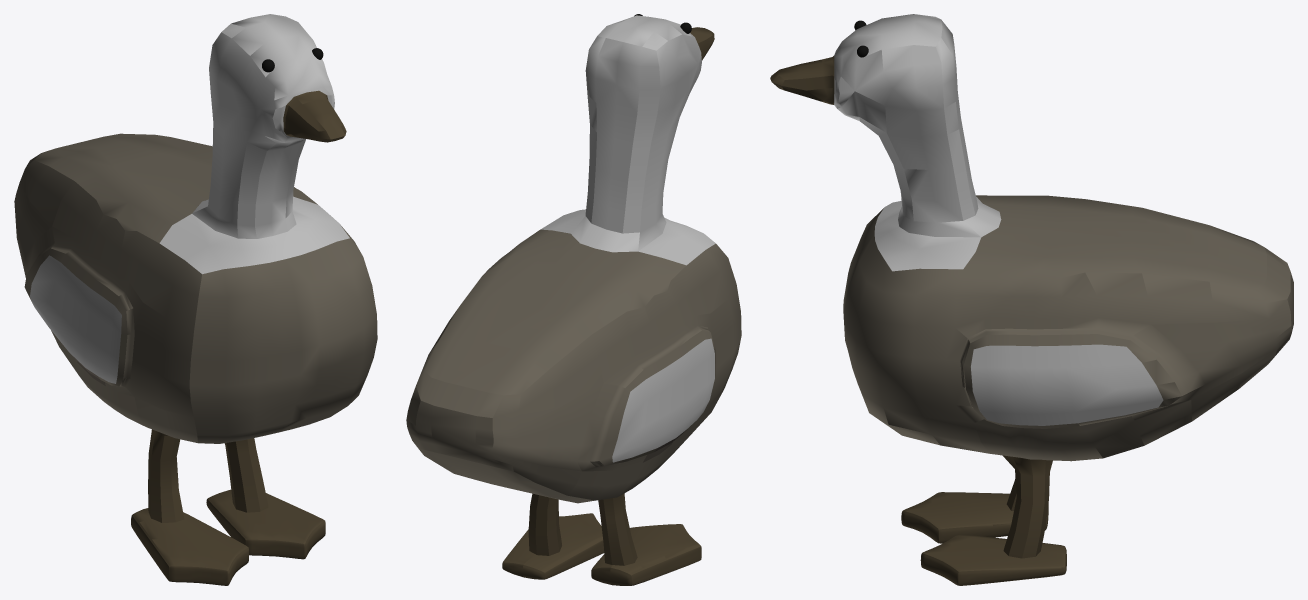
Rendered from duck4.gltf.
3 renders of one model, left to right at view 1: azimuth 30°, elevation 25°; view 2: azimuth 150°, elevation 25°; view 3: azimuth 270°, elevation 25°, orthographic. The views are drawn at different scales.
Parts seen in each view (by area): view 1: Cube; view 2: Cube; view 3: Cube.
Part boxes in pixels (x1,y1,x2,y2): Cube: (14,14,377,585); Cube: (406,14,741,585); Cube: (770,14,1293,585).
Bounding box in the file's own units: 6.67 × 14.97 × 13.49.
